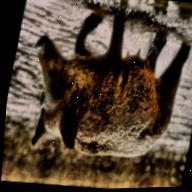boar: (15, 0, 192, 168)
